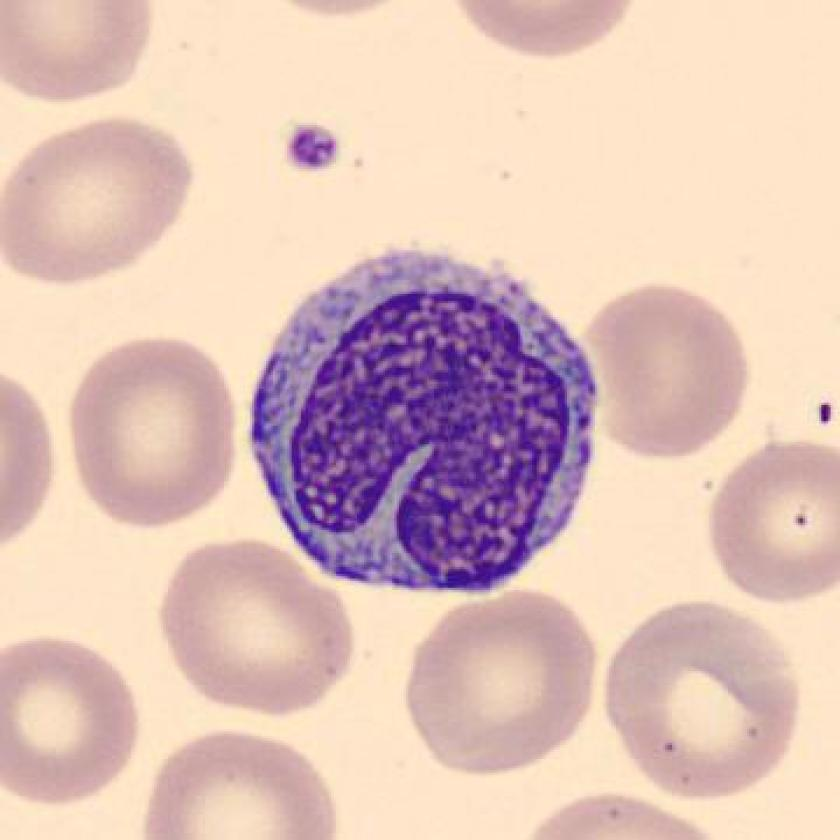monocyte: (230, 237, 624, 621)
